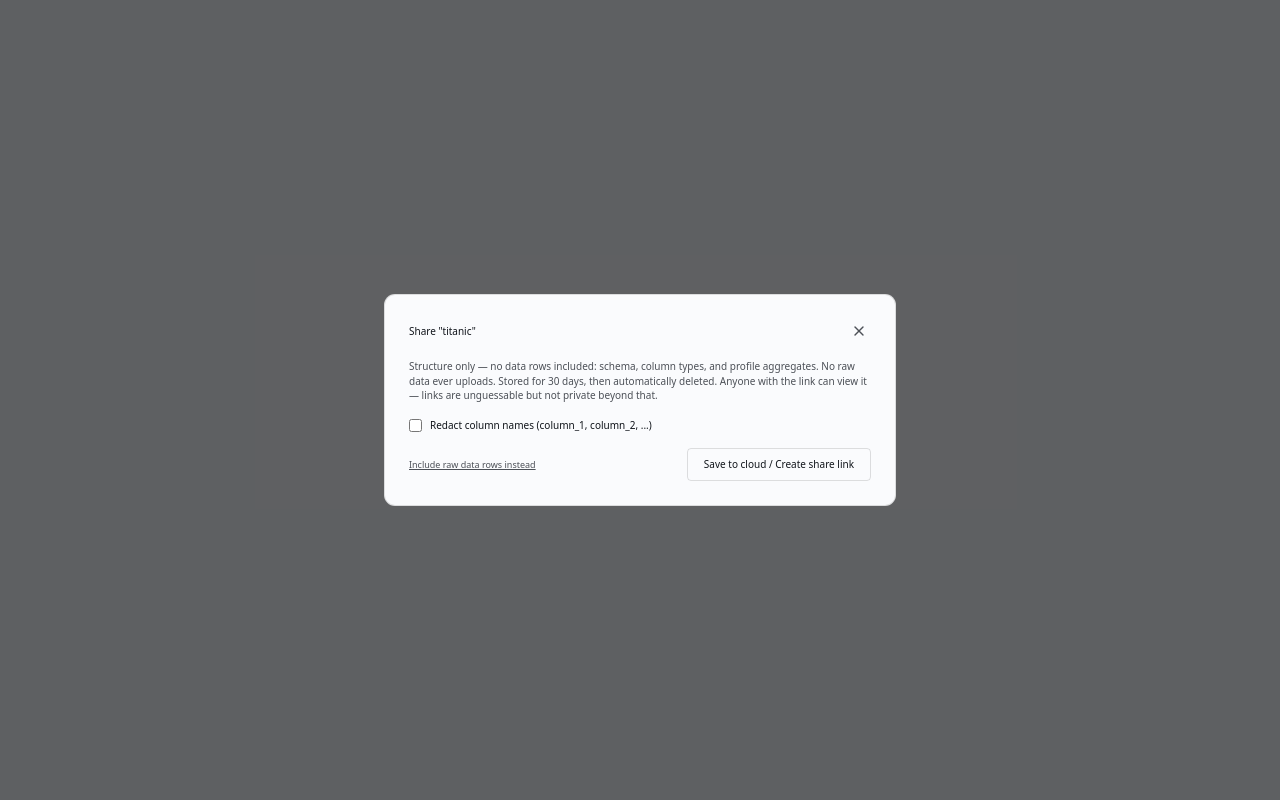
ShareDialog › renders a friendly error and stays open on a rate-limit rejection
Click the button "Save to cloud / Create share link" at (779, 465), box [687,448,871,481]
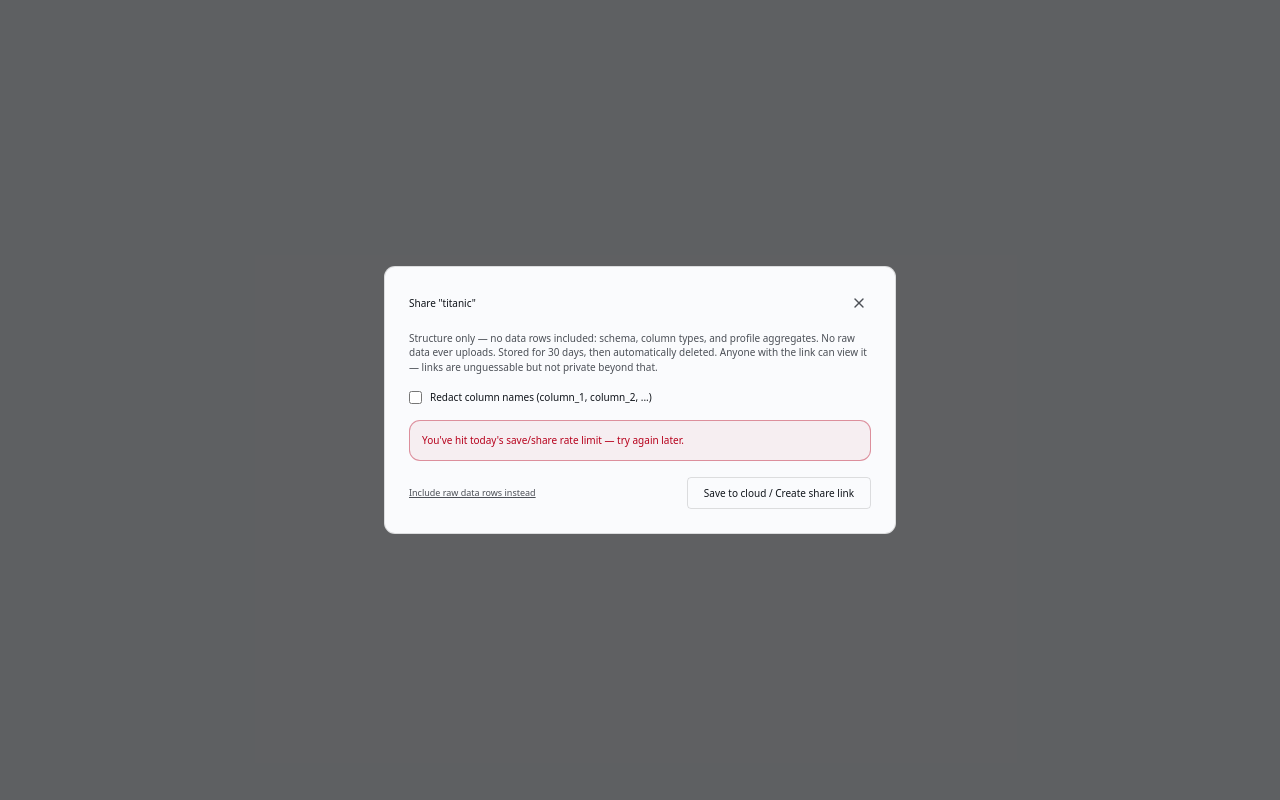
Check: the button "Save to cloud / Create share link" is shown, box [687,477,871,509]
Check: the text "rate limit" is shown, box [422,433,684,447]
